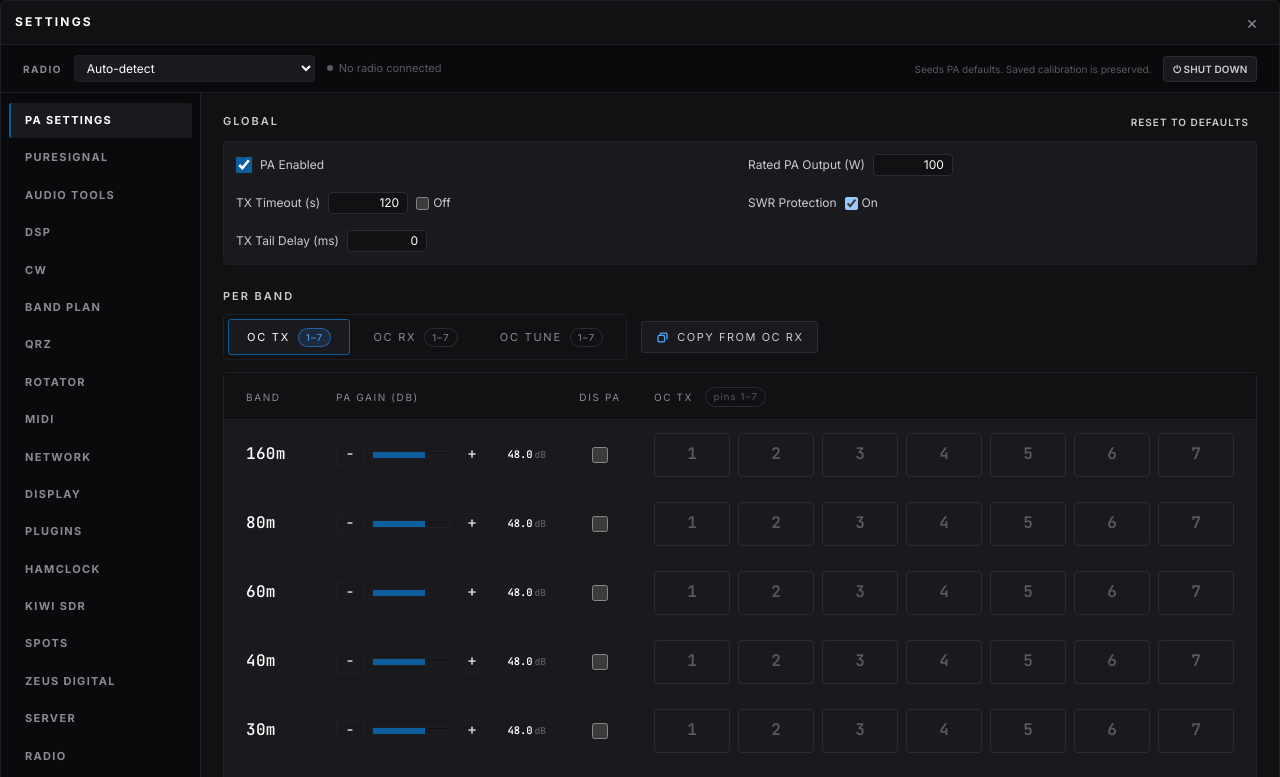
Test: SettingsView — RADIO tab gating › shows the RADIO tab with radio settings even when no board firmware options are supported
Click the tab "RADIO".
click(100, 756)  # box [9,739,192,774]
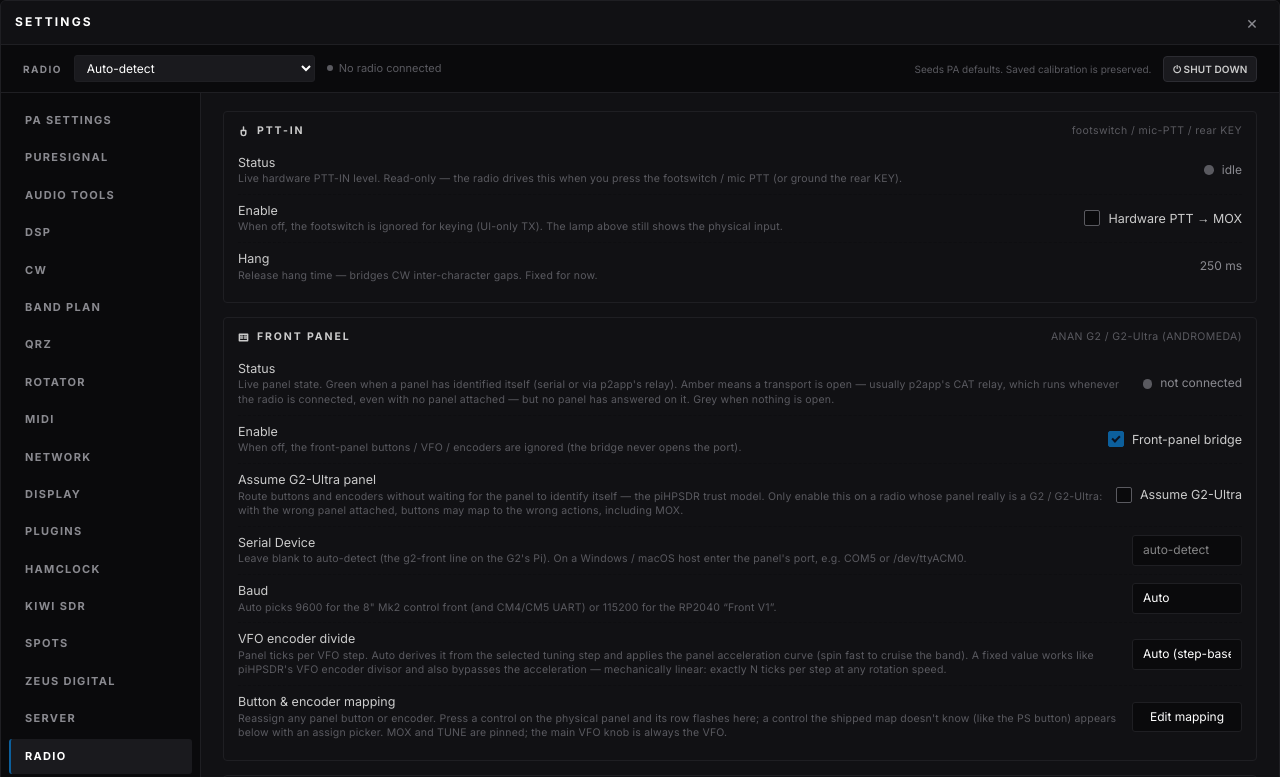
Expected: the text "PTT-IN" is shown, [257,124,304,137]
